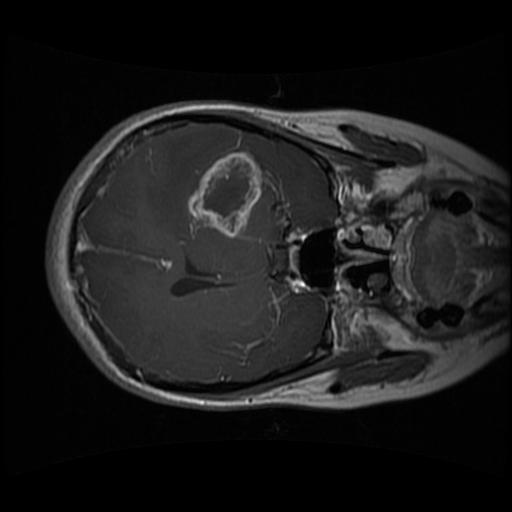glioma: (181, 145, 266, 240)
